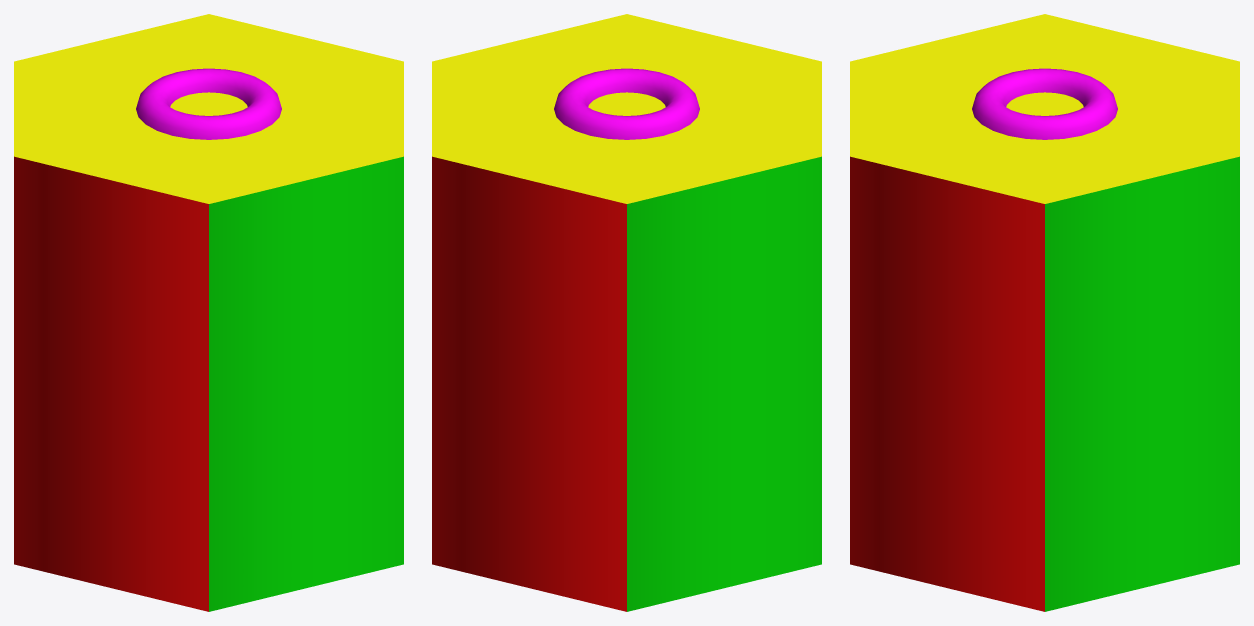
The model's file is 6prism_with_annexe.DAE.
The picture shows the model from 3 angles, left to right: view 1: azimuth 30°, elevation 25°; view 2: azimuth 150°, elevation 25°; view 3: azimuth 270°, elevation 25°; orthographic projection.
Parts seen in each view (by area): view 1: Cylinder001; view 2: Cylinder001; view 3: Cylinder001.
Part boxes in pixels (x1=…): Cylinder001: x1=14, y1=14, x2=403, y2=611; Cylinder001: x1=432, y1=14, x2=821, y2=611; Cylinder001: x1=850, y1=14, x2=1239, y2=611.
Size of the model in its own units: 400 by 346 by 415.
